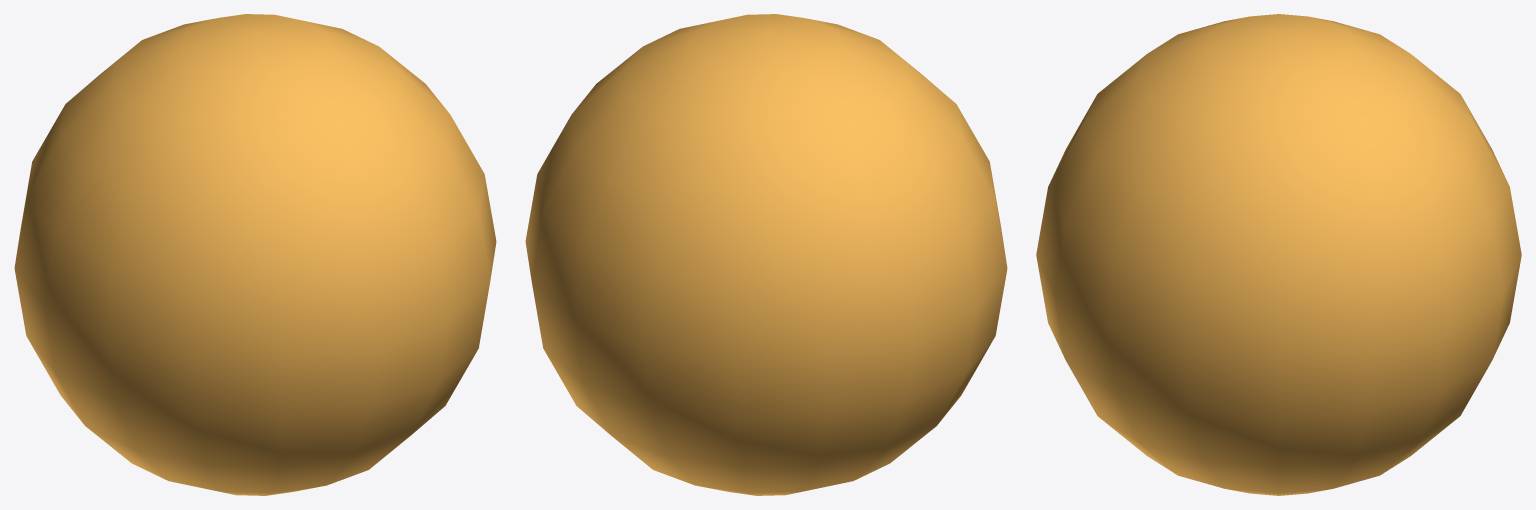
3 renders of one model, left to right at view 1: azimuth 30°, elevation 25°; view 2: azimuth 150°, elevation 25°; view 3: azimuth 270°, elevation 25°, orthographic.
Visible parts, largest first — view 1: Pelota; view 2: Pelota; view 3: Pelota.
Part boxes in pixels (box(x1,y1,x2,y2)): Pelota: box(14, 14, 496, 495); Pelota: box(525, 14, 1007, 495); Pelota: box(1036, 14, 1521, 495).
Bounding box in the file's own units: 0.4 × 0.4 × 0.4.
